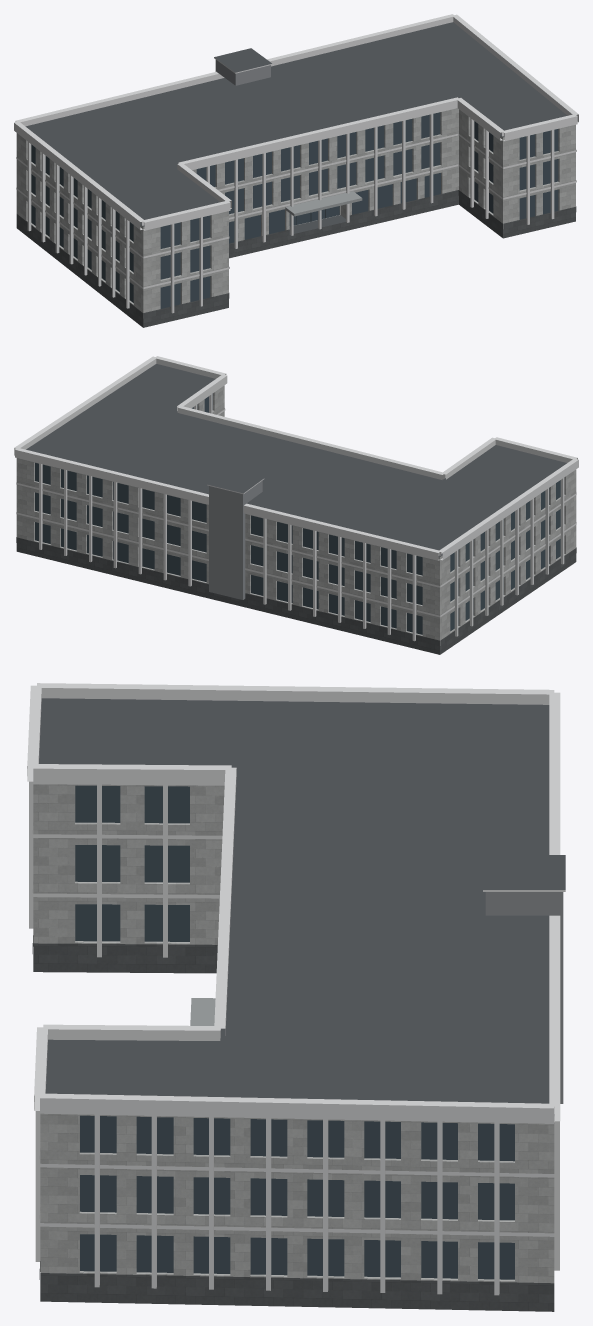
3 views of the same model, one above another, from view 1: azimuth 30°, elevation 25°; view 2: azimuth 150°, elevation 25°; view 3: azimuth 270°, elevation 25° (orthographic). The views are drawn at different scales.
Parts seen in each view (by area): view 1: artMuseum__roof, artMuseum__wall, artMuseum__trim, artMuseum__glass, artMuseum__base, artMuseum__canopy, artMuseum__wall2; view 2: artMuseum__roof, artMuseum__wall, artMuseum__trim, artMuseum__glass, artMuseum__base, artMuseum__wall2; view 3: artMuseum__roof, artMuseum__wall, artMuseum__trim, artMuseum__glass, artMuseum__base, artMuseum__wall2.
Boxes of the visible parts, x1,y1,x2,y2 form: artMuseum__roof: [25, 22, 567, 234]; artMuseum__wall: [16, 108, 575, 318]; artMuseum__trim: [14, 14, 578, 313]; artMuseum__glass: [31, 112, 558, 308]; artMuseum__base: [16, 190, 576, 327]; artMuseum__canopy: [285, 191, 362, 216]; artMuseum__wall2: [215, 60, 270, 85]; artMuseum__roof: [26, 364, 566, 556]; artMuseum__wall: [16, 385, 576, 645]; artMuseum__trim: [14, 356, 578, 641]; artMuseum__glass: [35, 393, 560, 634]; artMuseum__base: [16, 537, 576, 654]; artMuseum__wall2: [209, 480, 262, 599]; artMuseum__roof: [39, 698, 565, 1115]; artMuseum__wall: [33, 784, 554, 1283]; artMuseum__trim: [27, 683, 565, 1295]; artMuseum__glass: [75, 785, 514, 1279]; artMuseum__base: [32, 935, 554, 1311]; artMuseum__wall2: [485, 892, 563, 1103].
Bounding box in the file's own units: 61.54 × 15.7 × 32.92.
Materials: 9 (2 with a texture image).
